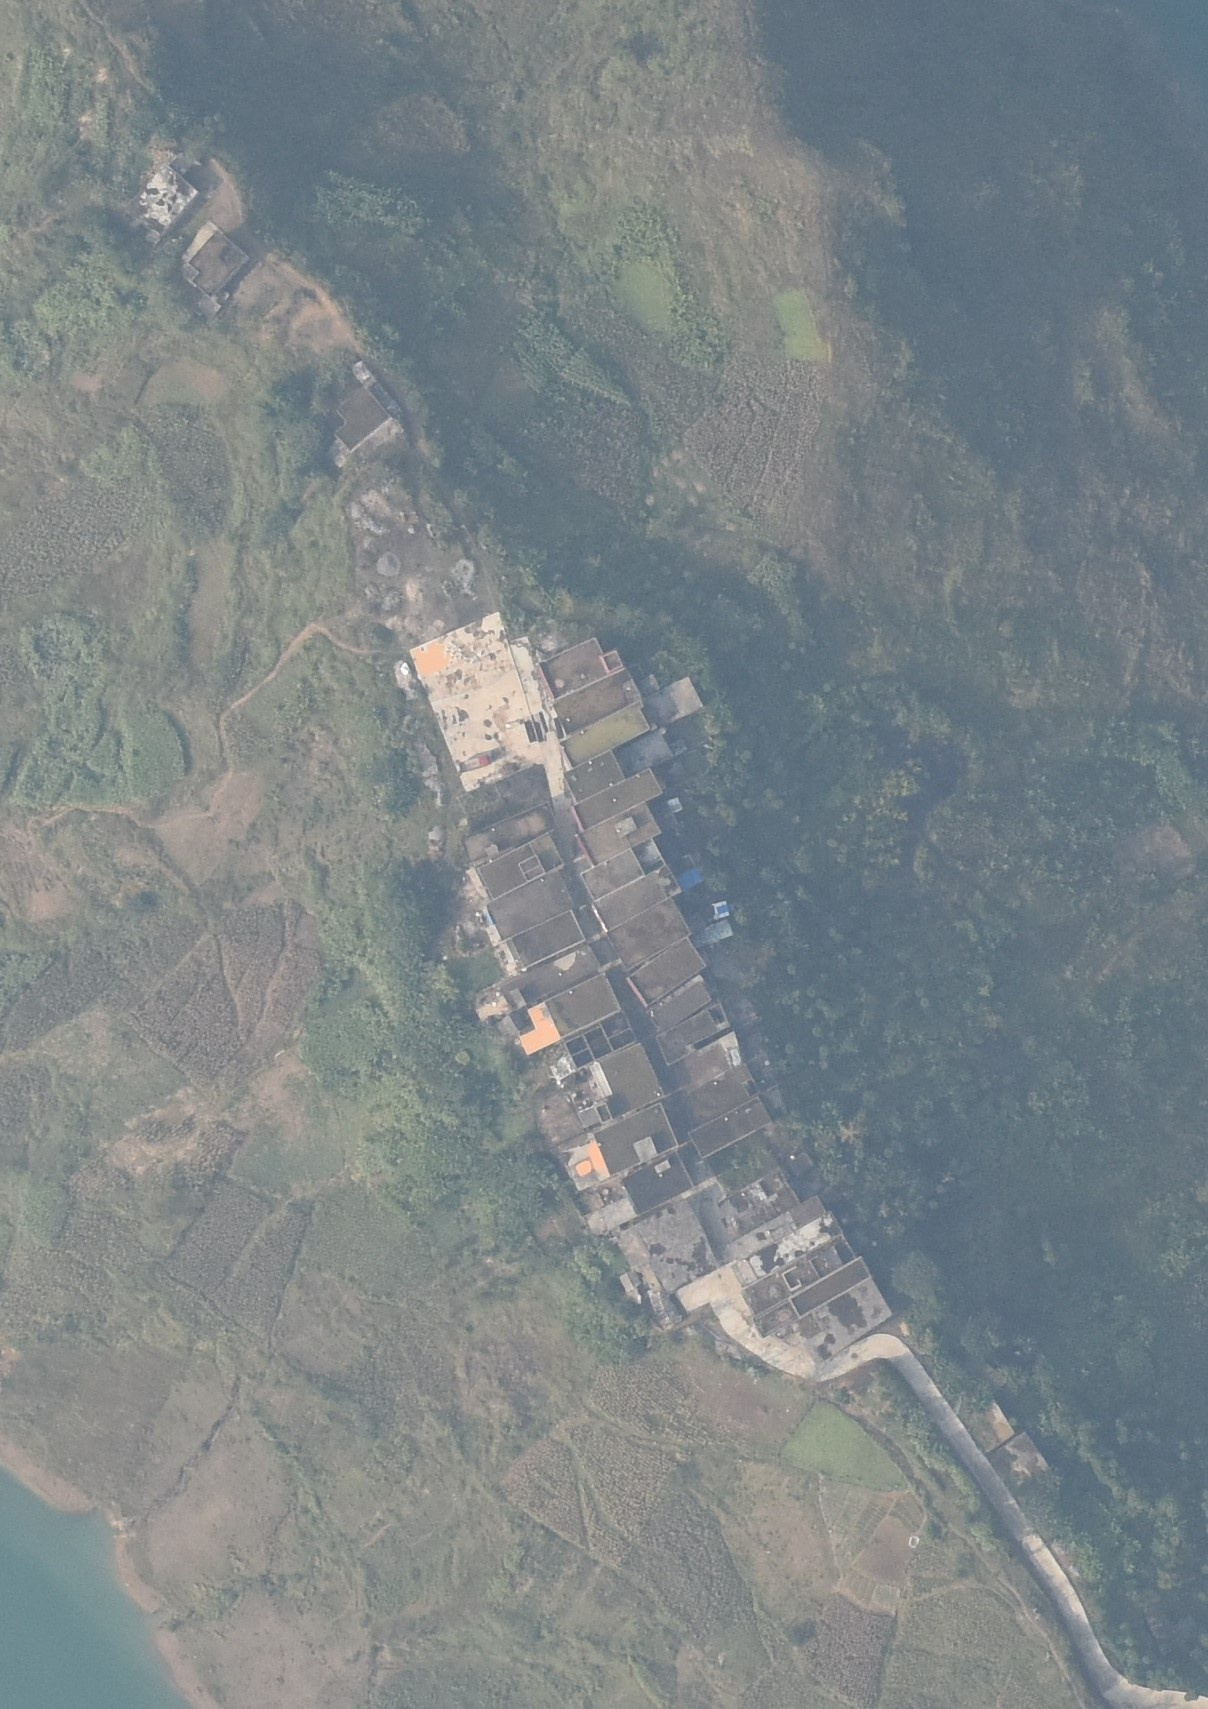building: (601, 1199, 726, 1301), (515, 970, 631, 1055), (796, 1272, 897, 1368), (573, 1040, 670, 1133), (570, 1095, 681, 1176), (554, 698, 664, 775), (676, 1089, 783, 1166), (585, 863, 694, 937), (623, 933, 721, 1015), (558, 768, 683, 832), (467, 827, 566, 907), (477, 865, 572, 945), (451, 760, 557, 831), (567, 800, 672, 871), (609, 894, 699, 971), (786, 1252, 882, 1322), (314, 382, 402, 457), (456, 801, 561, 863), (130, 156, 200, 248), (182, 221, 253, 310), (549, 668, 649, 731), (534, 639, 629, 703), (654, 1005, 740, 1068), (615, 1150, 704, 1210), (501, 907, 585, 969), (684, 1064, 754, 1131), (518, 946, 600, 1001), (670, 1029, 742, 1089), (648, 976, 721, 1035), (713, 1152, 806, 1198), (556, 751, 636, 804), (990, 1431, 1054, 1489), (646, 678, 710, 728), (962, 1399, 1016, 1457), (752, 1299, 806, 1342), (615, 1270, 649, 1300)
prefabricated-house: (673, 867, 713, 896)
